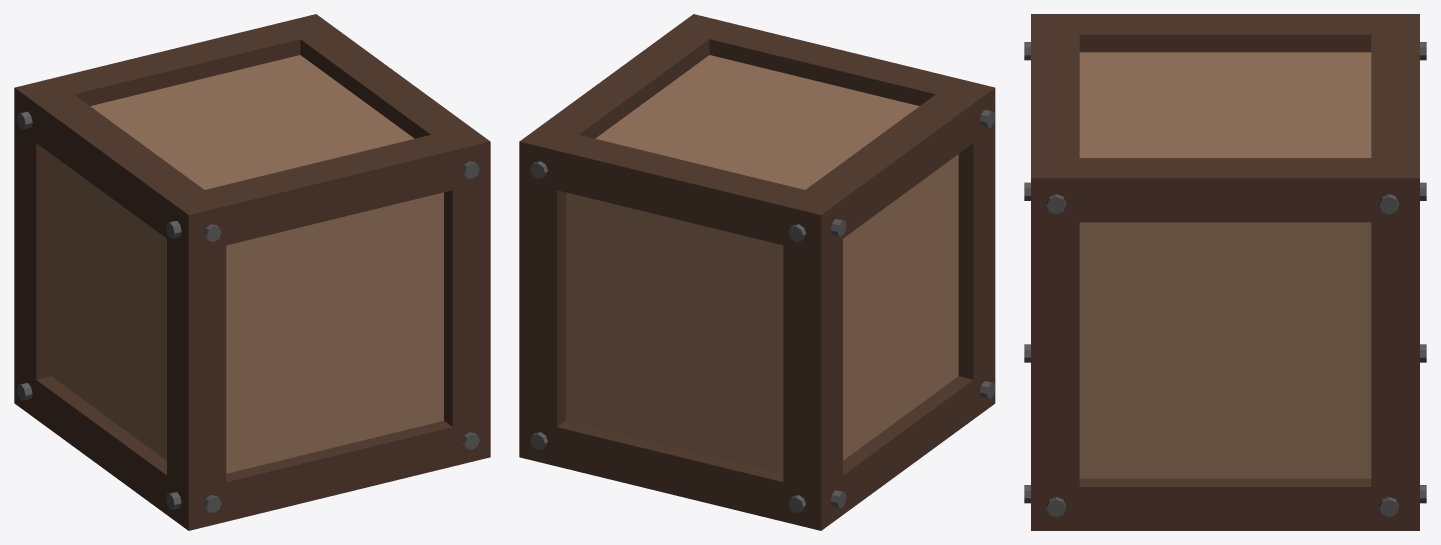
The model's file is low_poly_crate_box.fbx.
The picture shows the model from 3 angles, left to right: view 1: azimuth 30°, elevation 25°; view 2: azimuth 150°, elevation 25°; view 3: azimuth 270°, elevation 25°; orthographic projection. The views are drawn at different scales.
Parts seen in each view (by area): view 1: Cube.000; view 2: Cube.000; view 3: Cube.000.
Boxes of the visible parts, <box> form: Cube.000: <box>14,14,490,530</box>; Cube.000: <box>519,14,995,530</box>; Cube.000: <box>1024,14,1426,530</box>.
Size of the model in its own units: 208 by 200 by 207.
